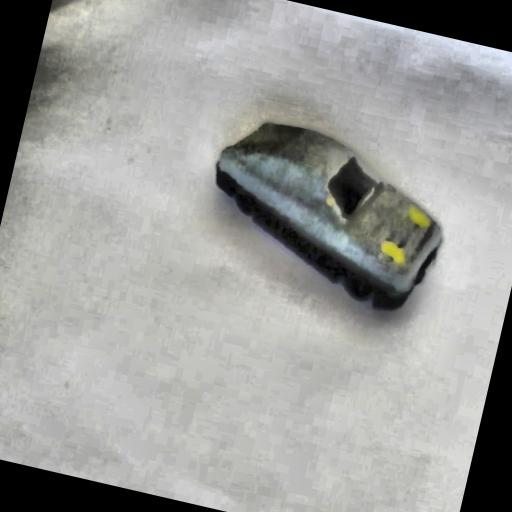normal_car: (187, 102, 465, 323)
